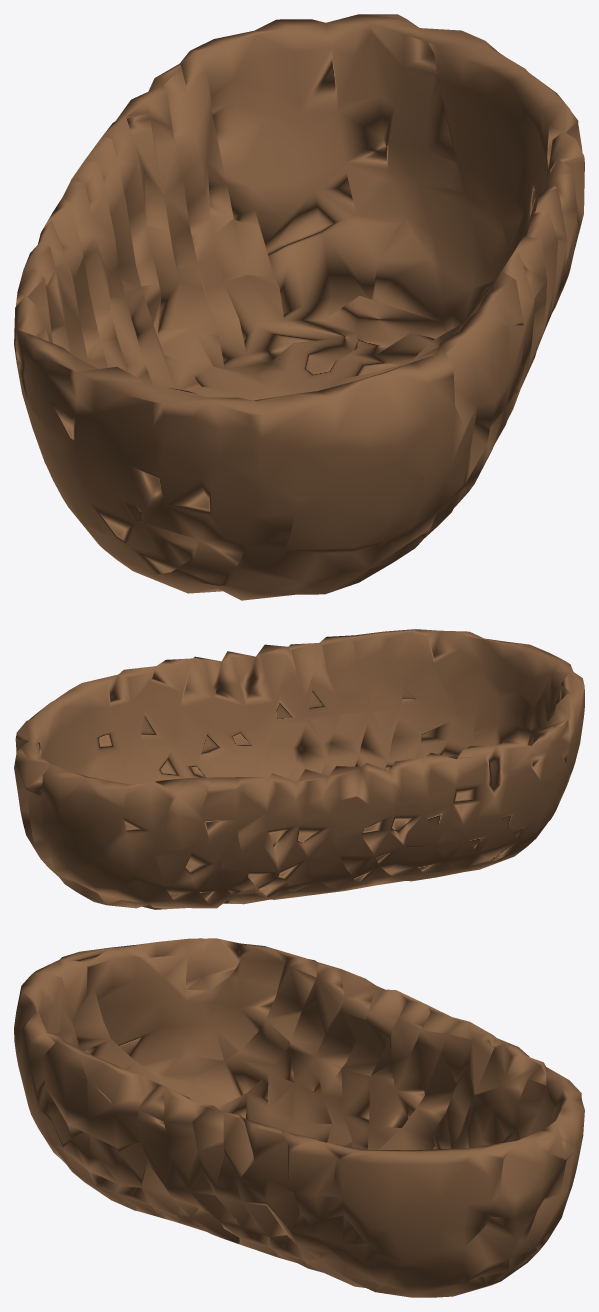
Rendered from rice_washing_bowl.glb.
3 renders of one model, top to bottom at view 1: azimuth 30°, elevation 25°; view 2: azimuth 150°, elevation 25°; view 3: azimuth 270°, elevation 25°, orthographic. The views are drawn at different scales.
Visible parts, largest first — view 1: rice_washing_bowl; view 2: rice_washing_bowl; view 3: rice_washing_bowl.
Boxes of the visible parts, x1=… form: rice_washing_bowl: x1=14, y1=14, x2=584, y2=600; rice_washing_bowl: x1=14, y1=629, x2=584, y2=909; rice_washing_bowl: x1=14, y1=938, x2=584, y2=1297.
Size of the model in its own units: 50.66 by 17.88 by 54.74.
